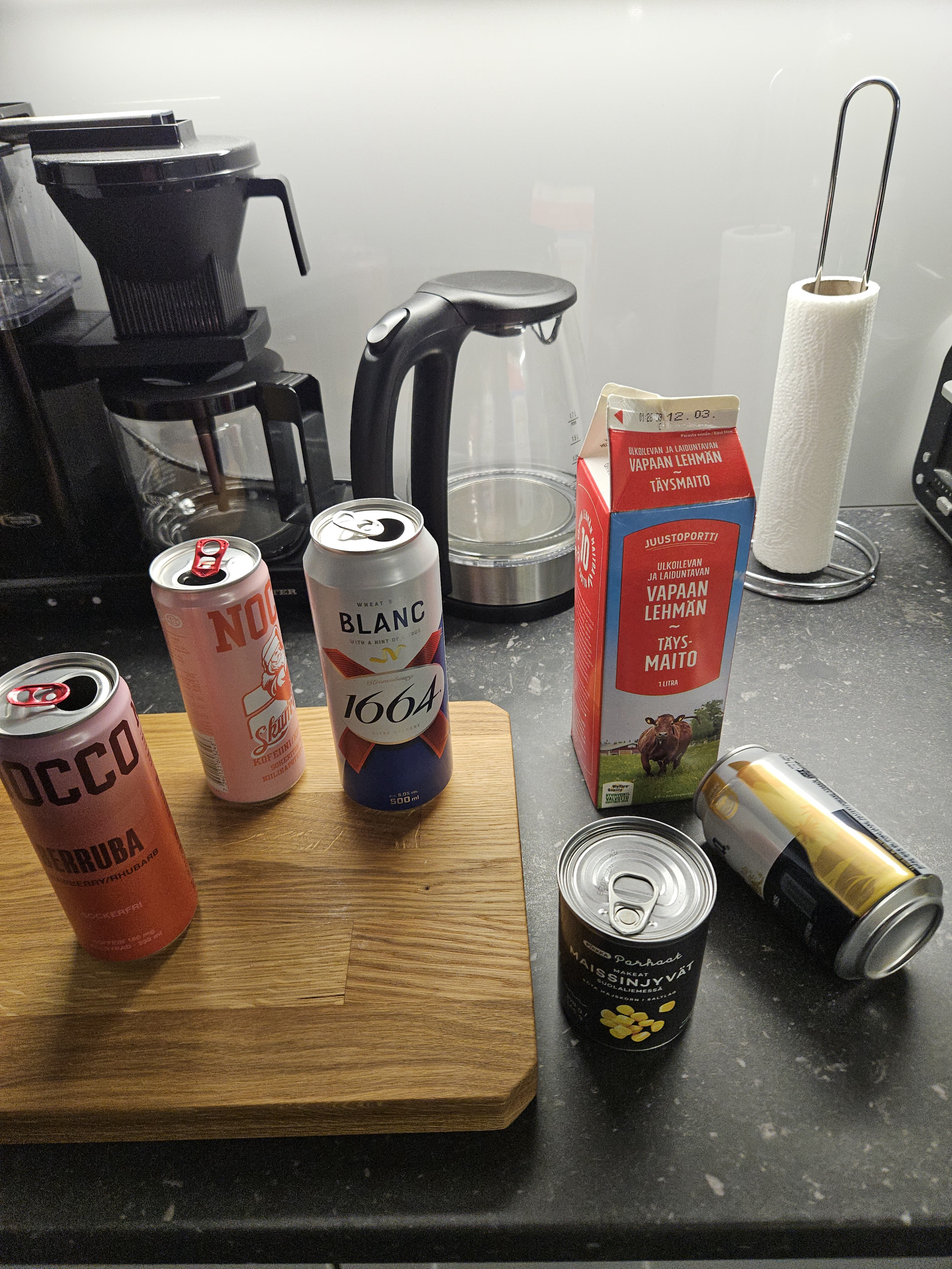Dryckeskartong: (558, 358, 762, 822)
Konservburk: (553, 813, 733, 1078)
Pantburk: (0, 645, 213, 964), (694, 743, 947, 995), (301, 500, 451, 821), (149, 536, 303, 810)
